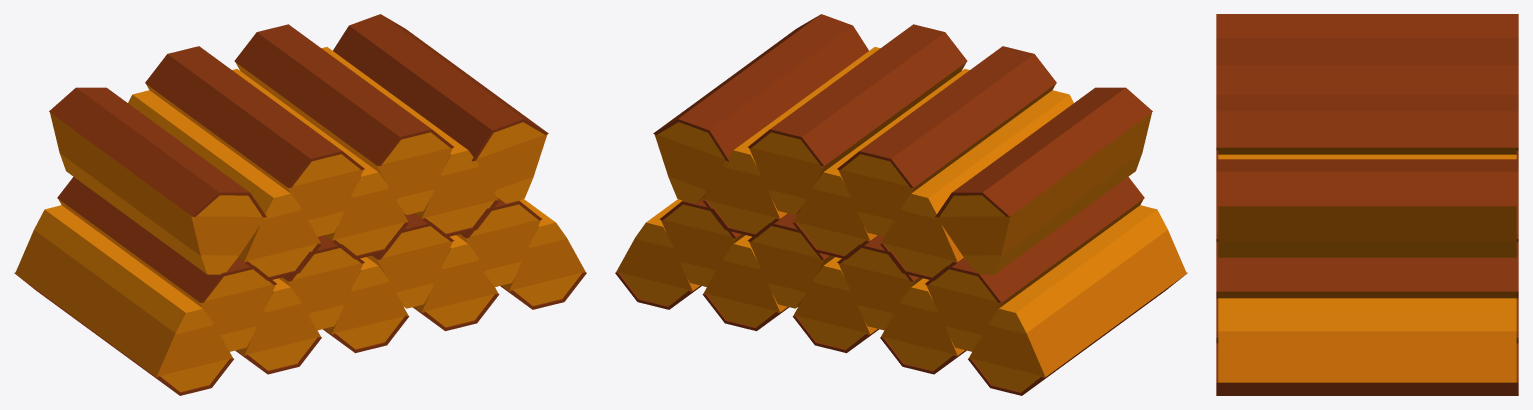
File: Small Log_8.fbx
3 renders of one model, left to right at view 1: azimuth 30°, elevation 25°; view 2: azimuth 150°, elevation 25°; view 3: azimuth 270°, elevation 25°, orthographic. The views are drawn at different scales.
Parts seen in each view (by area): view 1: Circle.080; view 2: Circle.080; view 3: Circle.080.
Part boxes in pixels (x1=…): Circle.080: x1=14, y1=14, x2=586, y2=395; Circle.080: x1=615, y1=14, x2=1187, y2=395; Circle.080: x1=1216, y1=14, x2=1518, y2=395.
Size of the model in its own units: 41.08 by 18.75 by 23.76.
